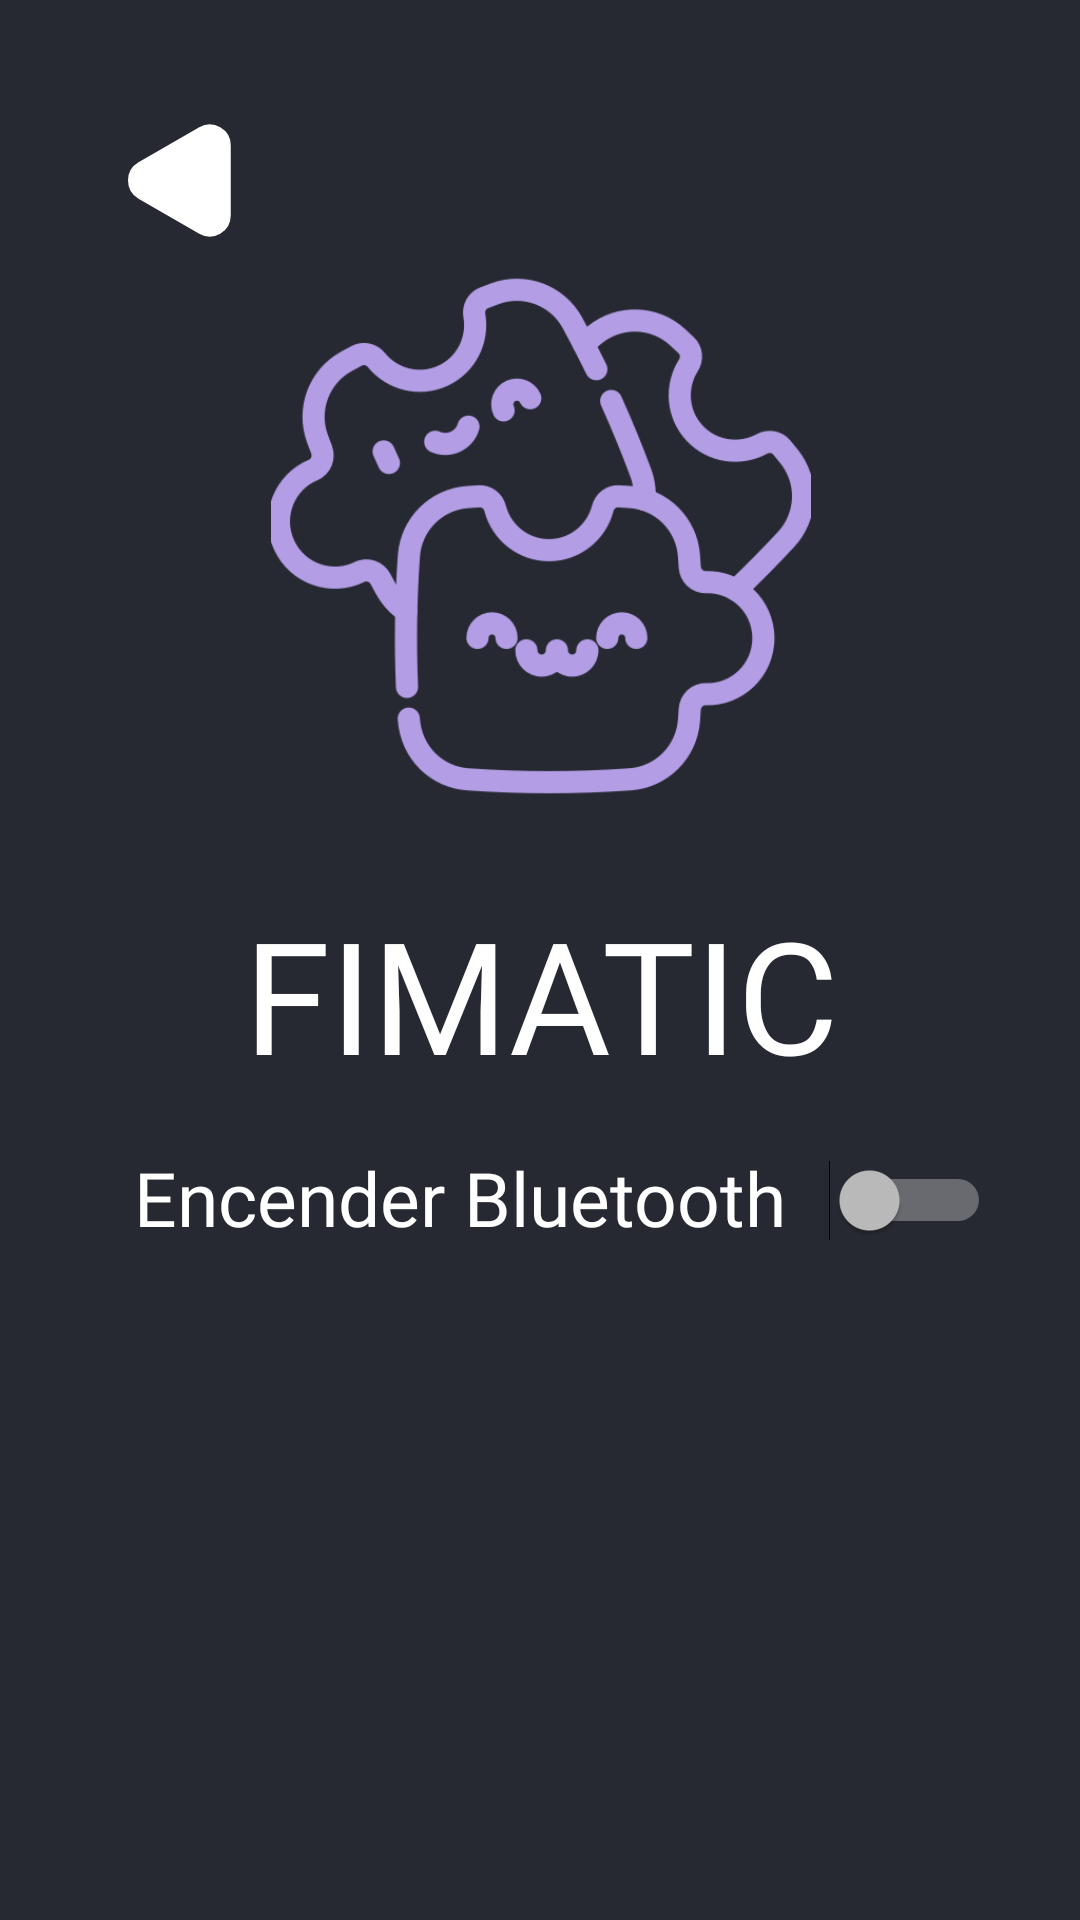

Icons on this 1080 × 1920 Android screen, each with its box as (x1, y1, x2, y2):
Boton para ir a la pantalla anterior: (128, 124, 231, 237)
